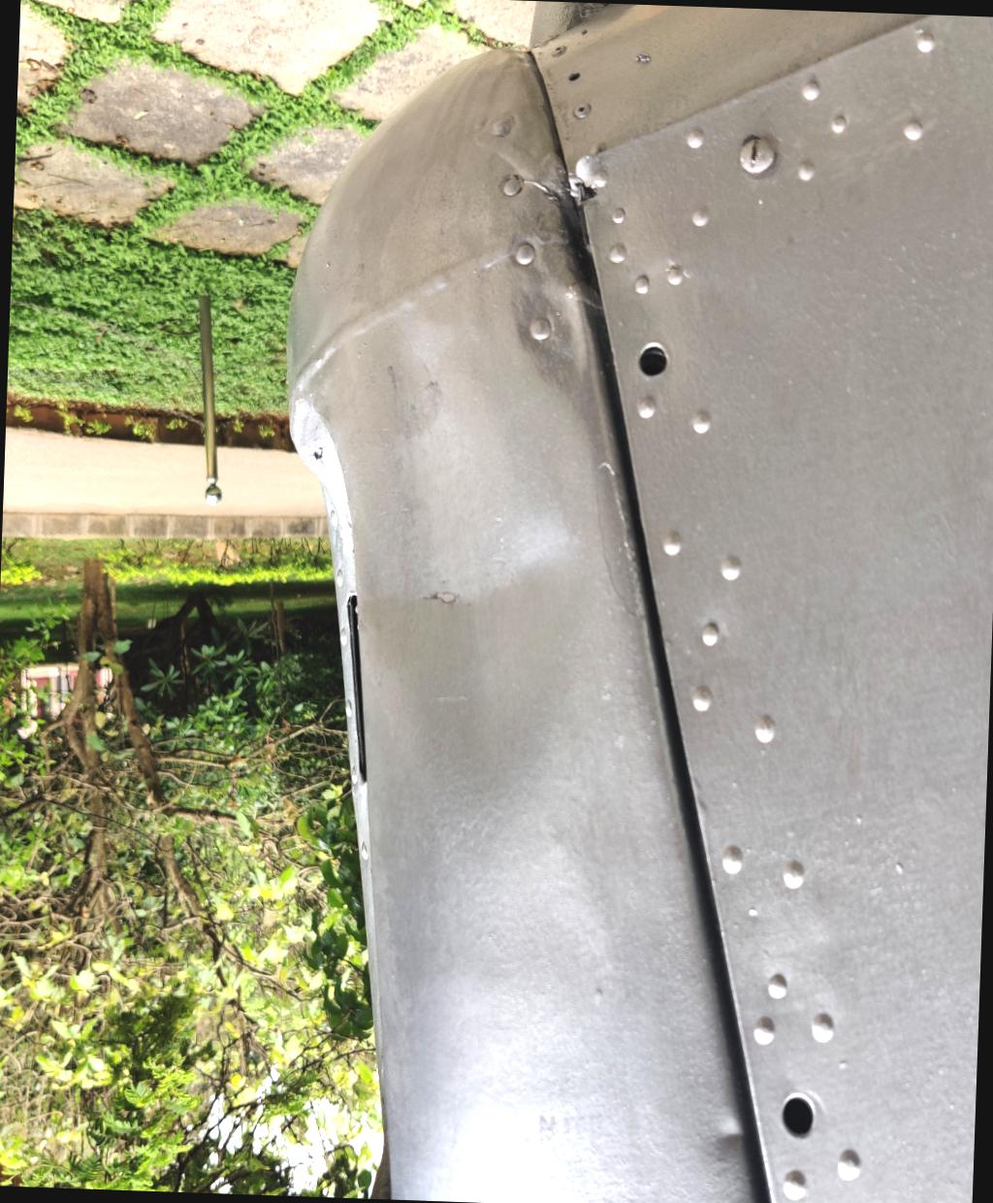dent: (360, 329, 615, 792)
